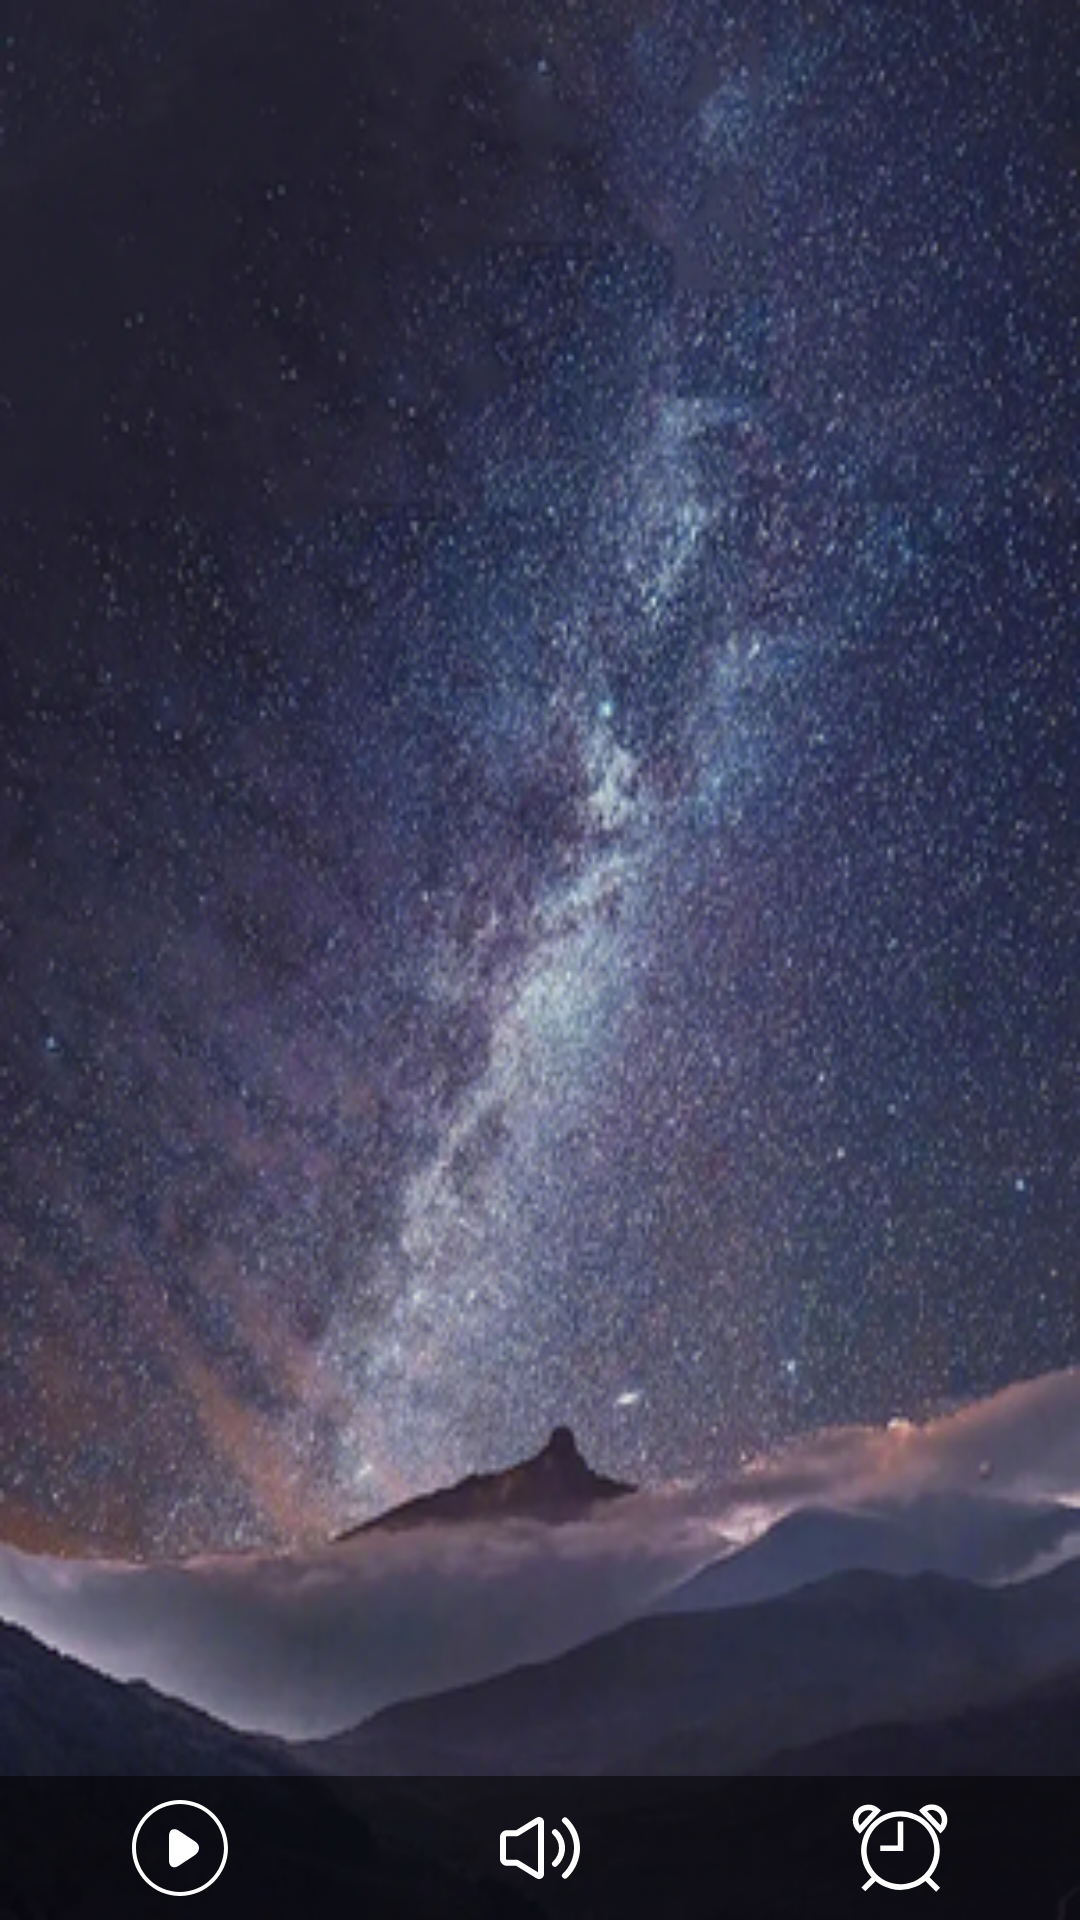

Named icons in this screenshot (1080*1920) and their bounding boxes, Rect(x1, y1, x2, y2):
alarm: Rect(852, 1804, 948, 1892)
shengyin: Rect(500, 1817, 580, 1879)
